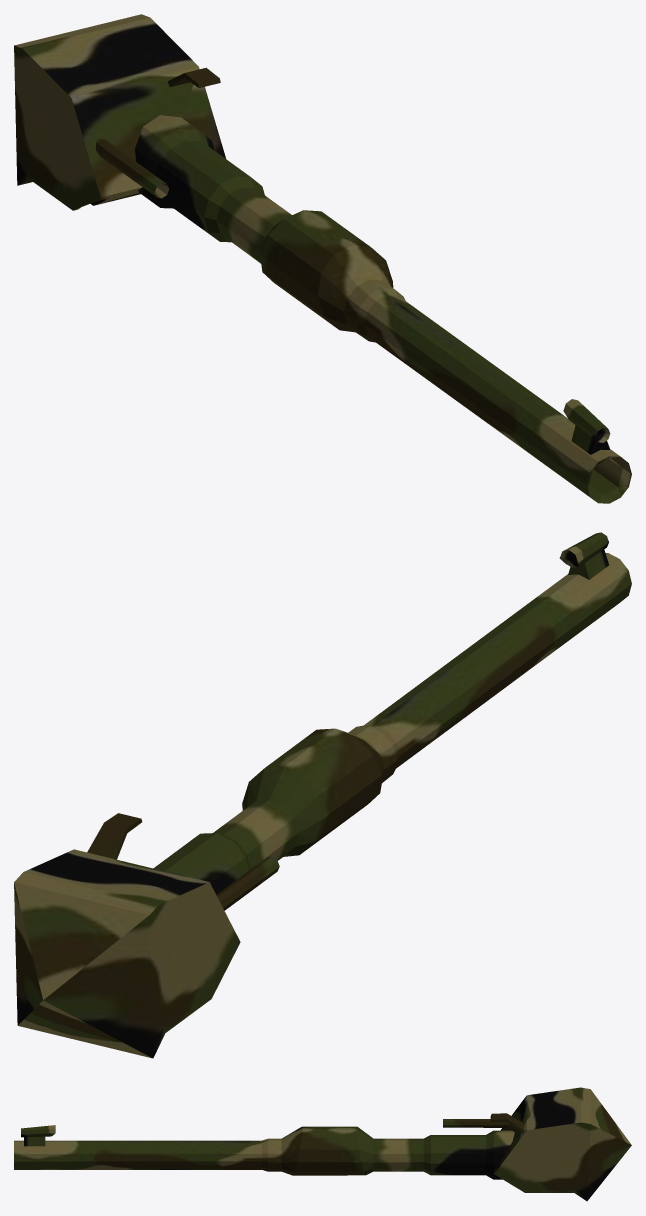
File: tanquetubo.obj
3 views of the same model, one above another, from view 1: azimuth 30°, elevation 25°; view 2: azimuth 150°, elevation 25°; view 3: azimuth 270°, elevation 25° (orthographic). The views are drawn at different scales.
Visible parts, largest first — view 1: Main_Barre; view 2: Main_Barre; view 3: Main_Barre.
Boxes of the visible parts, left/top/right/bottom form: Main_Barre: left=14, top=14, right=631, bottom=503; Main_Barre: left=14, top=532, right=631, bottom=1058; Main_Barre: left=14, top=1087, right=631, bottom=1201.
Size of the model in its own units: 0.414 by 0.4368 by 3.08.
1 material, 1 textured.
